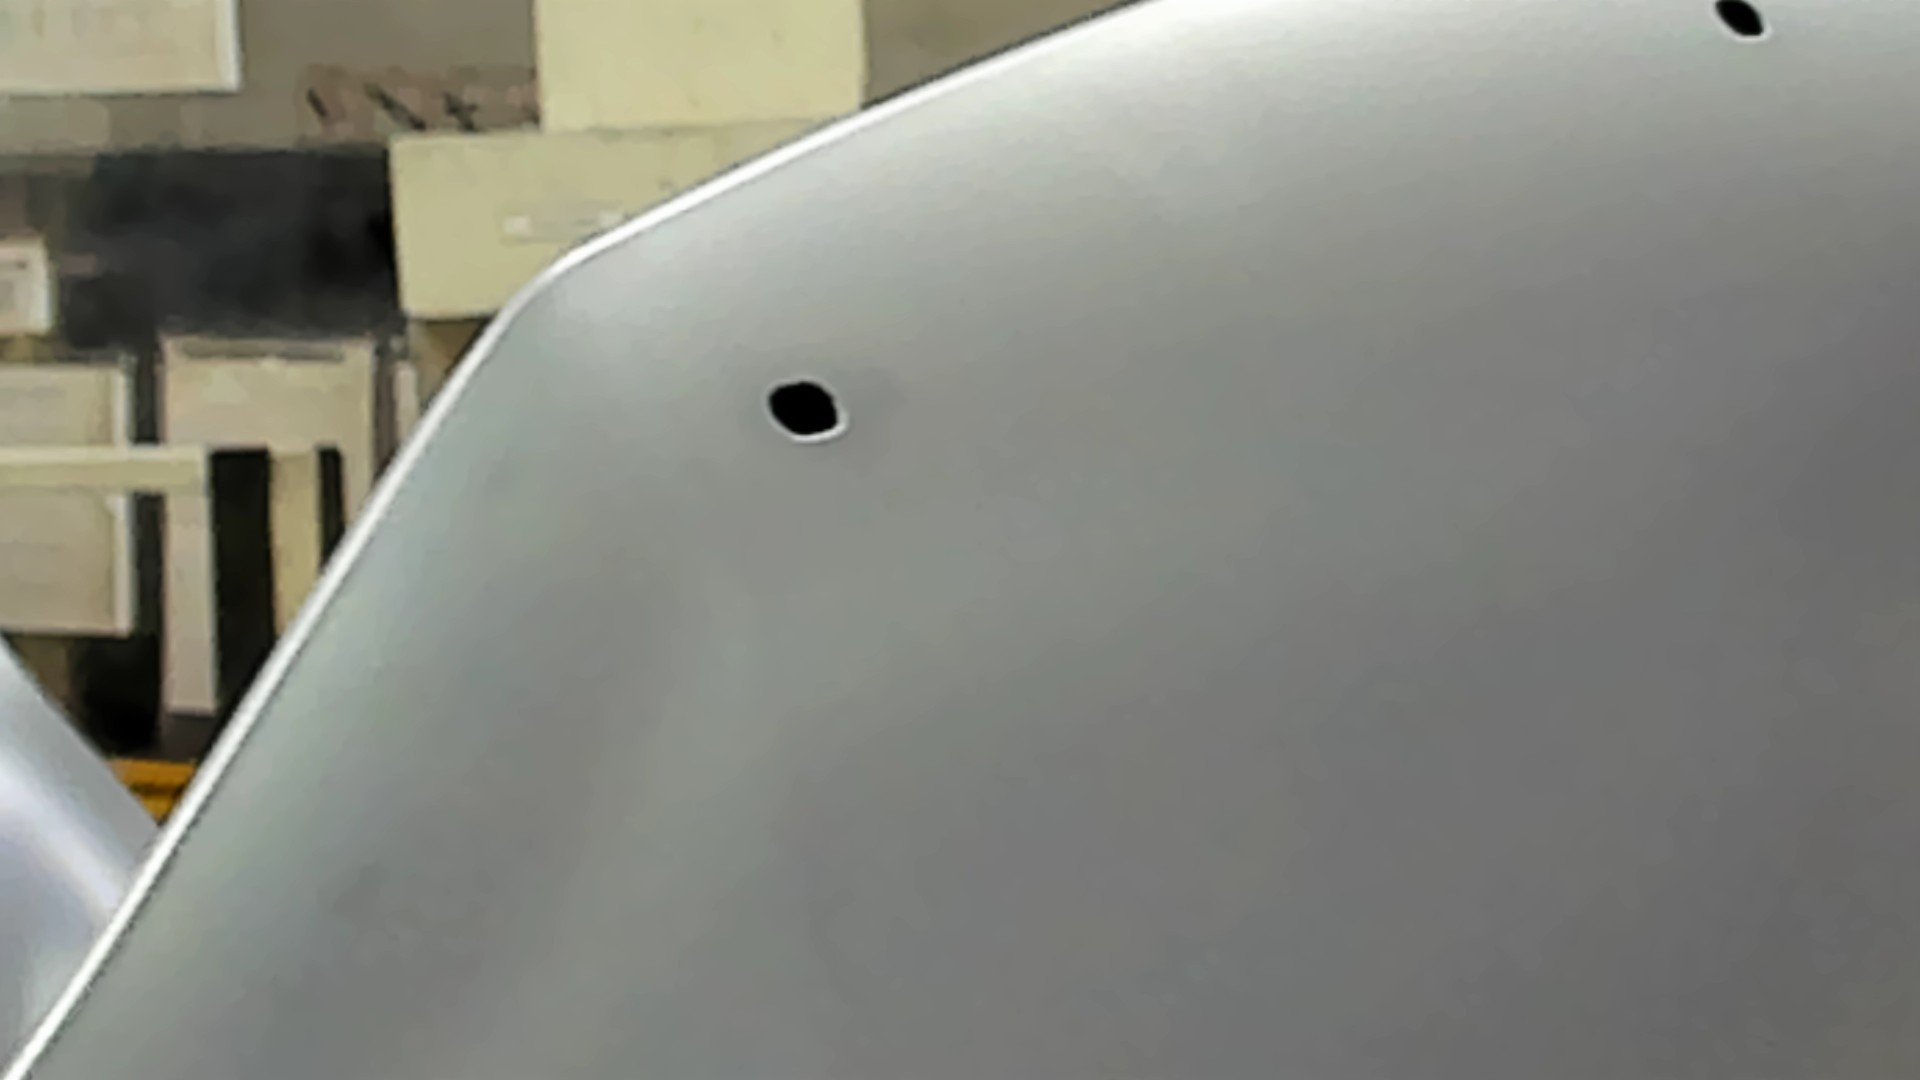amorfo: (760, 372, 860, 444), (1706, 1, 1774, 45)
capo: (959, 109, 1920, 1080)
